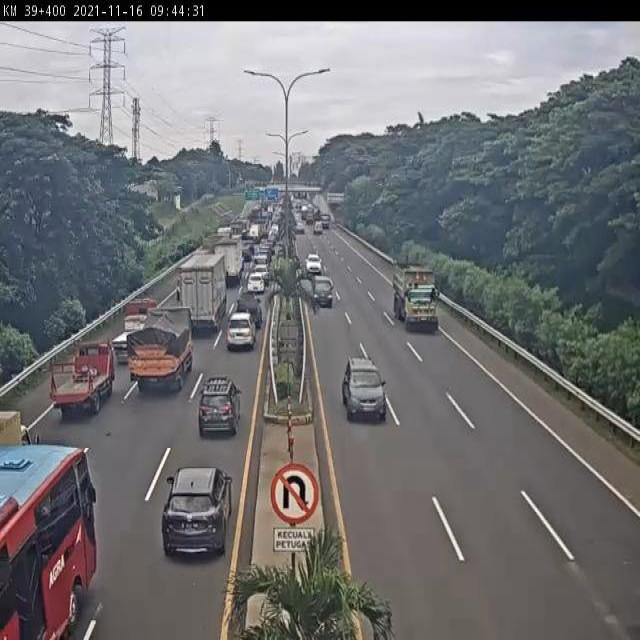car: (161, 467, 231, 556), (342, 357, 386, 419), (198, 376, 242, 435), (227, 314, 257, 350), (235, 296, 262, 332), (312, 272, 335, 309), (247, 274, 266, 294)
small truck: (45, 346, 113, 426), (111, 300, 162, 363)
truck-l-: (178, 255, 225, 333), (391, 258, 439, 330)
truck-m-: (126, 311, 191, 396), (212, 236, 244, 284)
